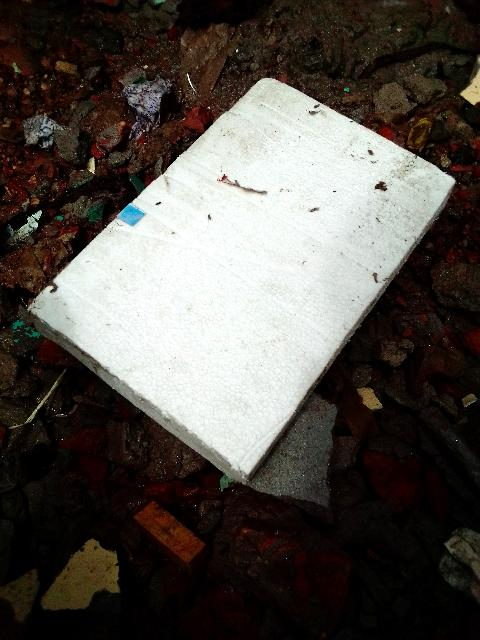cocksheet: (24, 67, 467, 496)
